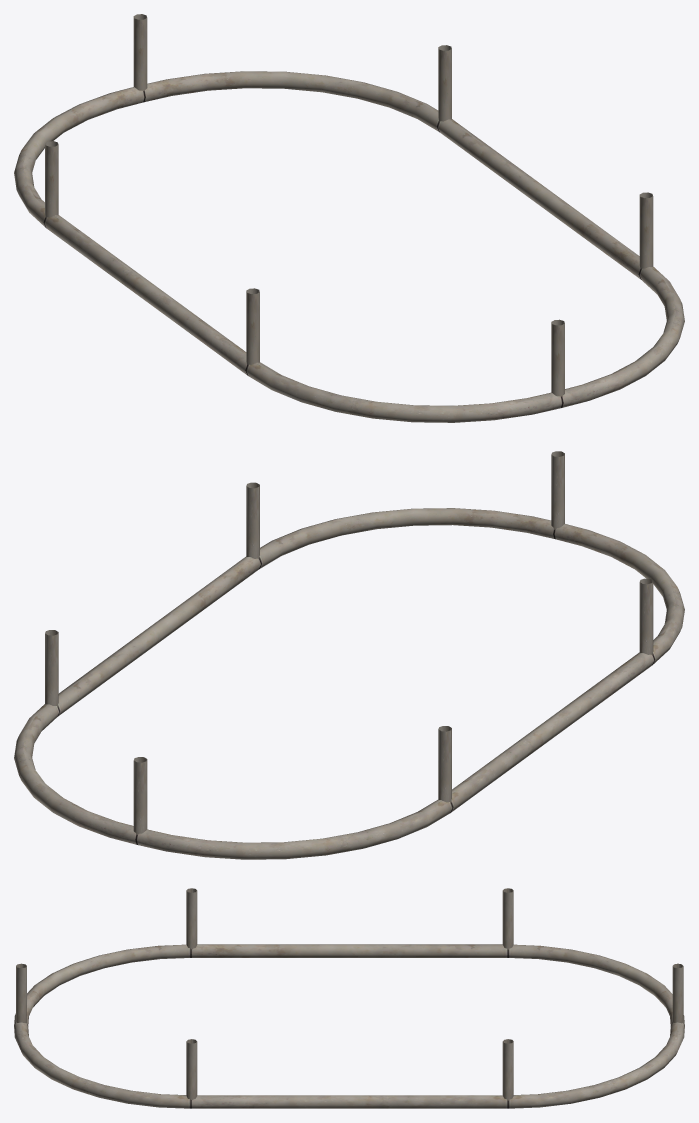
The model's file is 04_02_infirmary_curtain_railing_special.dae.
3 renders of one model, top to bottom at view 1: azimuth 30°, elevation 25°; view 2: azimuth 150°, elevation 25°; view 3: azimuth 270°, elevation 25°, orthographic. The views are drawn at different scales.
Parts seen in each view (by area): view 1: rig; view 2: rig; view 3: rig.
Boxes of the visible parts, bbox=[...] form: rig: bbox=[14, 14, 684, 422]; rig: bbox=[14, 451, 684, 859]; rig: bbox=[14, 888, 684, 1108].
Size of the model in its own units: 2.86 by 0.5705 by 5.17.
